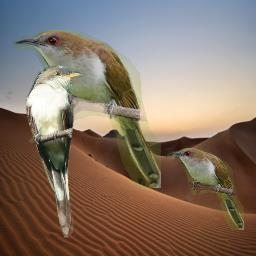Cuckoo: (13, 30, 161, 188), (26, 65, 82, 239), (167, 148, 244, 230)
